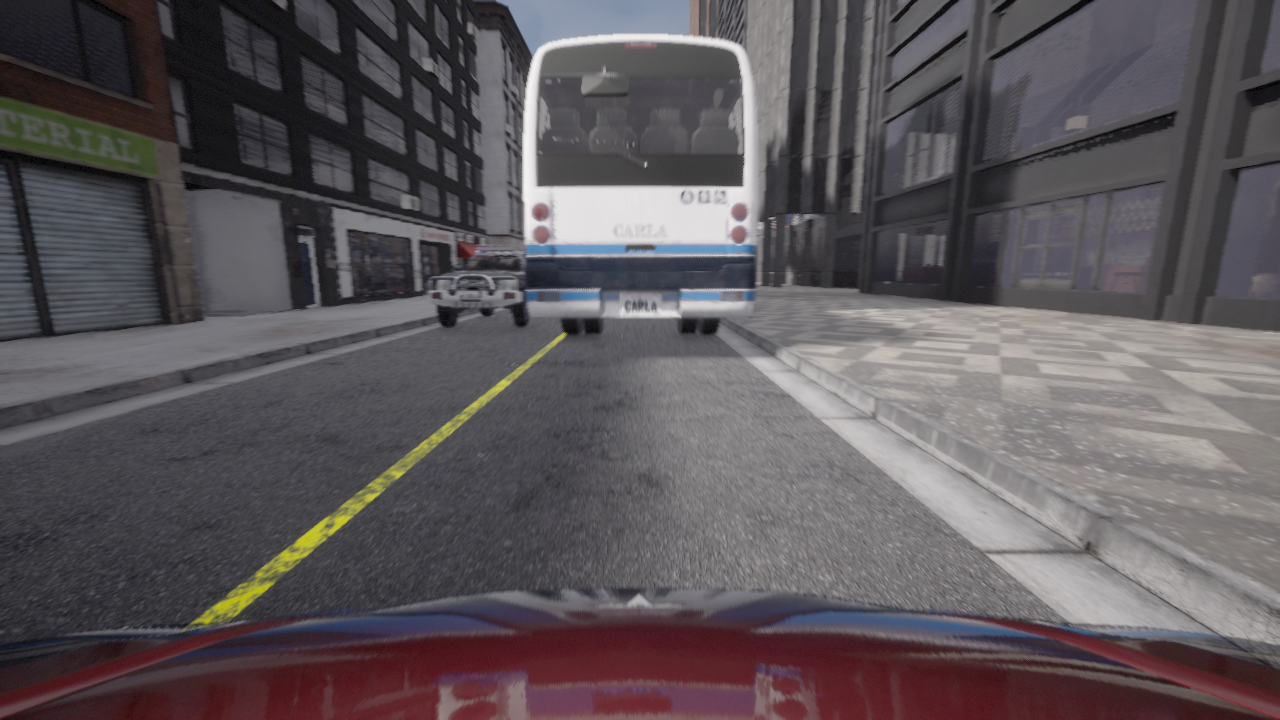cyclist: (0, 588, 1279, 719), (524, 35, 756, 334), (429, 245, 528, 326)
